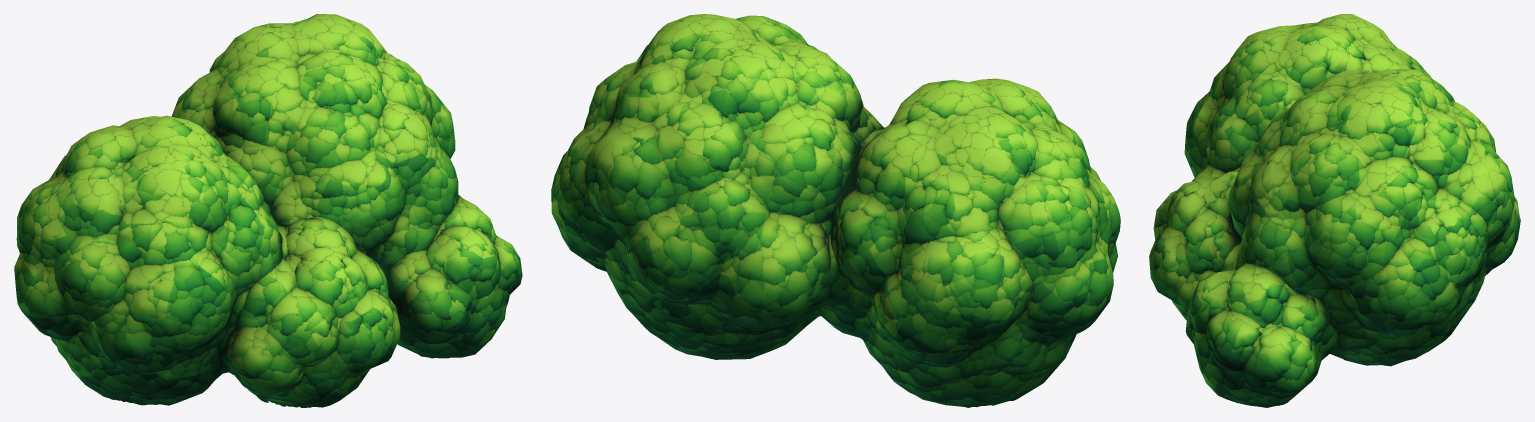
Rendered from bush_cluster_large.glb.
3 views of the same model, side by side, from view 1: azimuth 30°, elevation 25°; view 2: azimuth 150°, elevation 25°; view 3: azimuth 270°, elevation 25° (orthographic). The views are drawn at different scales.
Visible parts, largest first — view 1: bush_cluster_large; view 2: bush_cluster_large; view 3: bush_cluster_large.
Part boxes in pixels (<box>): bush_cluster_large: <box>14,14,522,407</box>; bush_cluster_large: <box>551,14,1120,407</box>; bush_cluster_large: <box>1149,14,1520,407</box>.
Bounding box in the file's own units: 3.9 × 2.36 × 2.85.
1 material, 1 textured.
